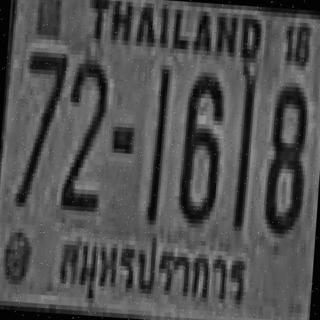N01: (231, 70, 257, 227), (145, 64, 169, 221), (232, 70, 255, 227)
N02: (58, 52, 108, 210)
N06: (175, 69, 224, 222)
N07: (14, 46, 67, 205)
N08: (262, 79, 308, 232)
P57: (55, 226, 247, 315)
